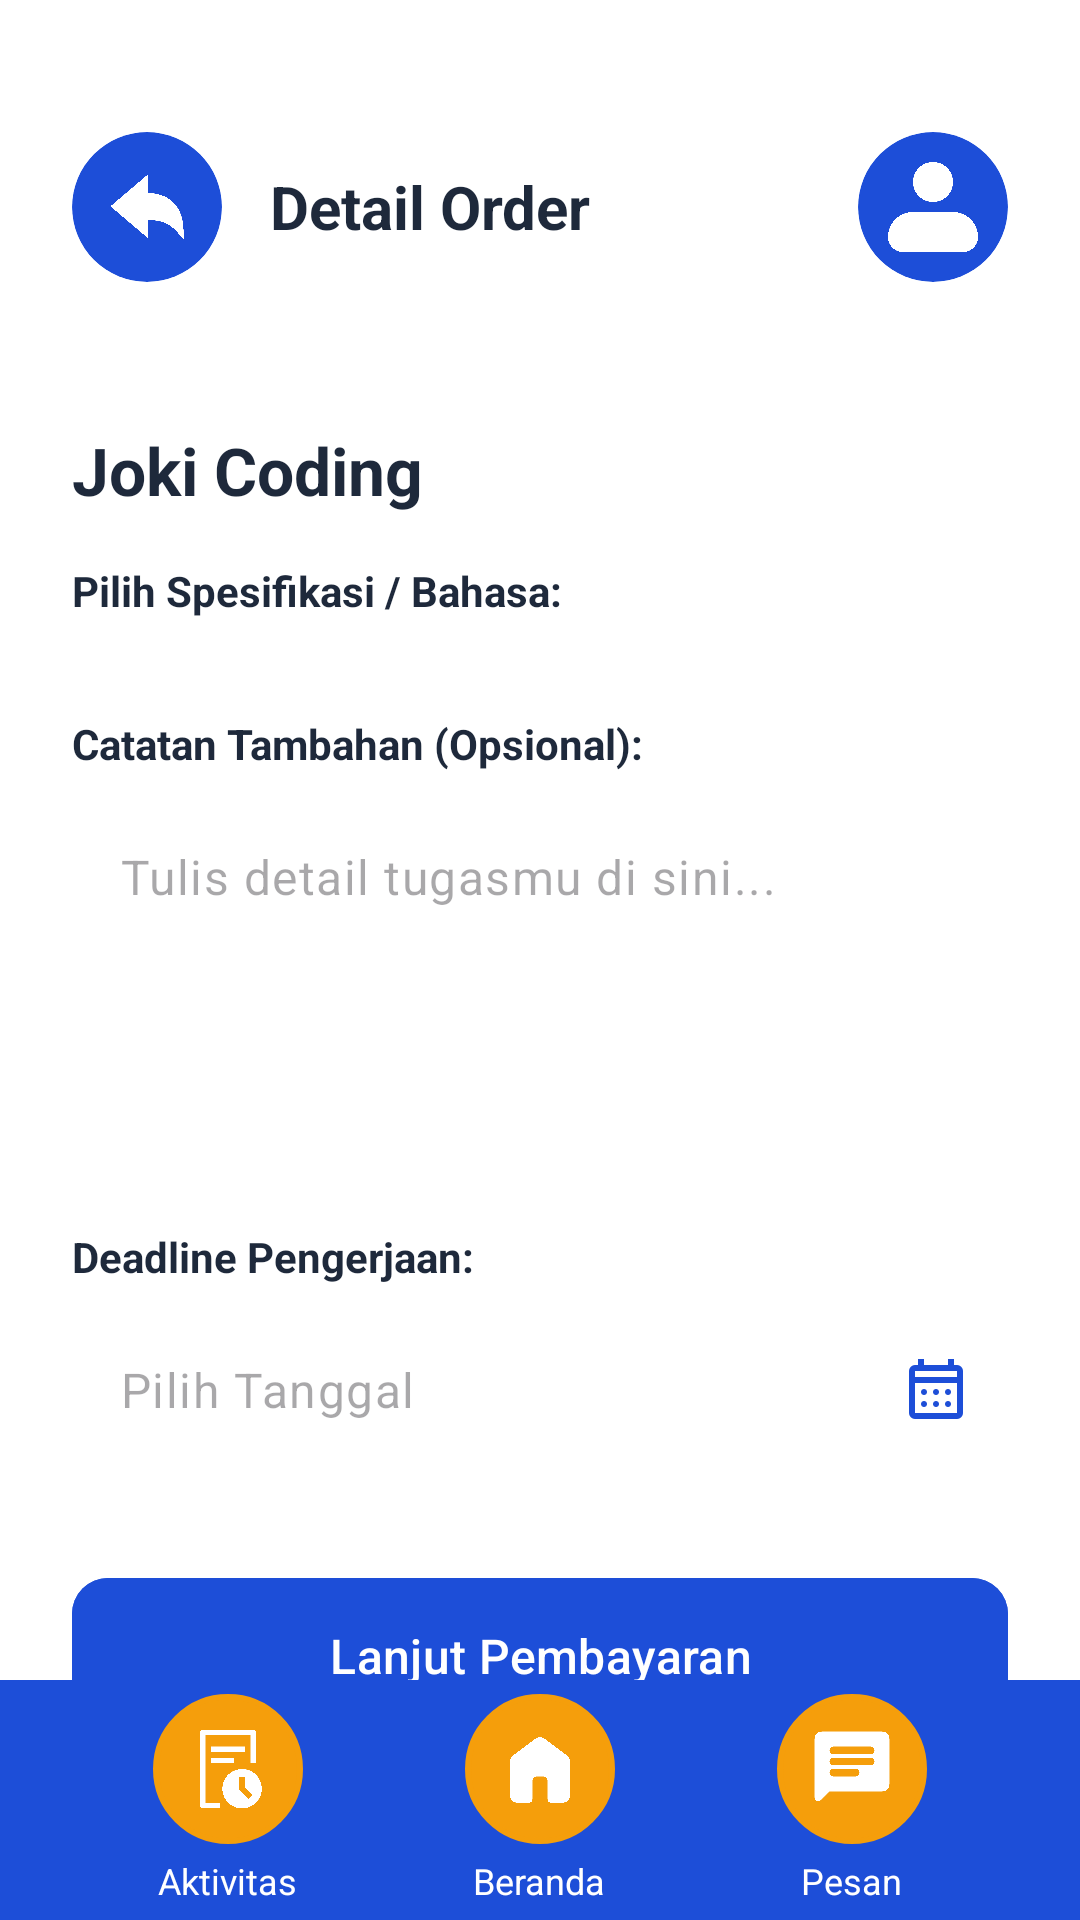

Screen size 1080w x 1920h. Icon name, then its center in pixels as (x=x, y=y):
back: (x=147, y=207)
